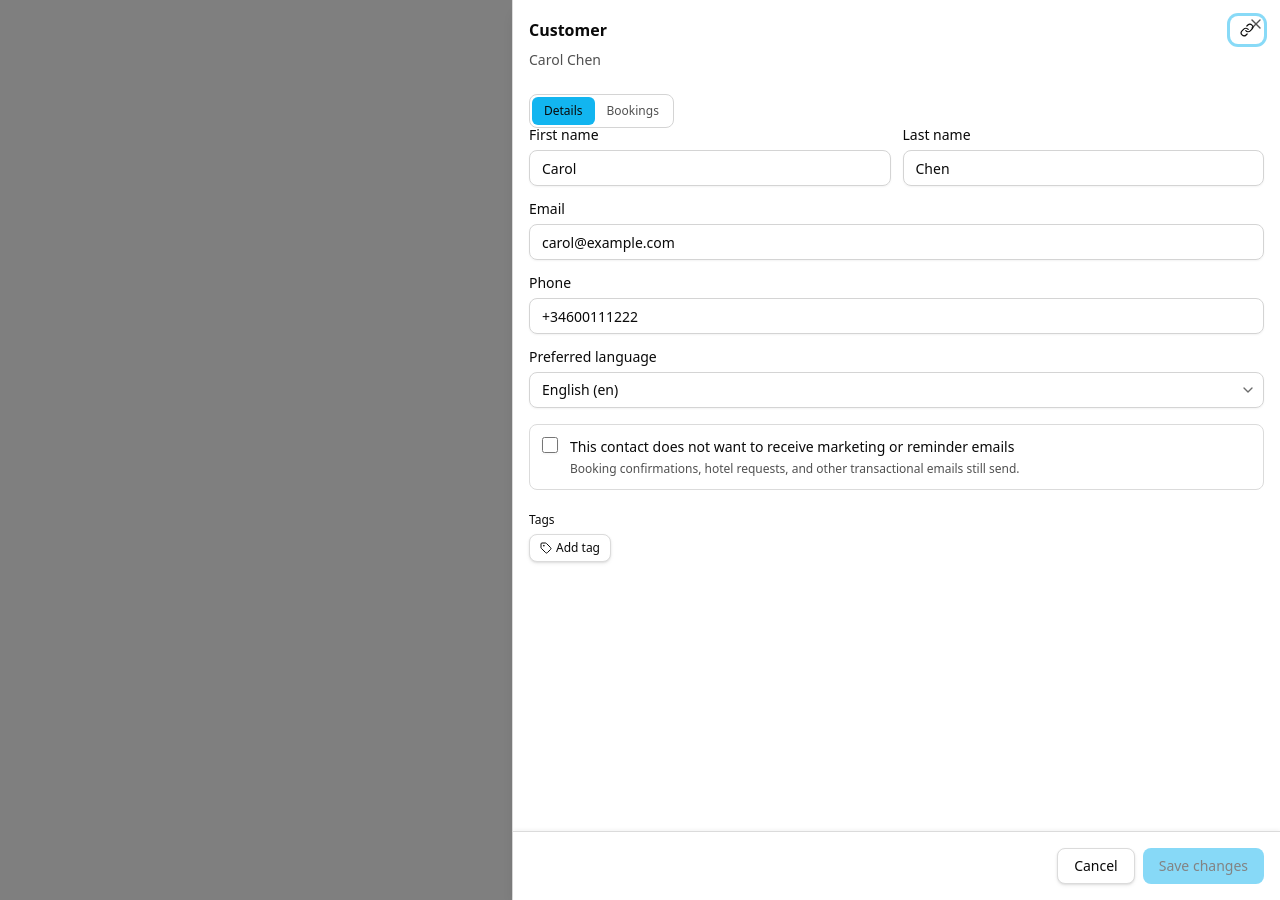
Scenario: CustomerDetailSheet › blocks Save and shows a field error for an invalid email
The width and height of the screenshot is (1280, 900).
Replace the text in the field labelled "Email" with "not-an-email": (896, 242) x1=529 y1=224 x2=1264 y2=260
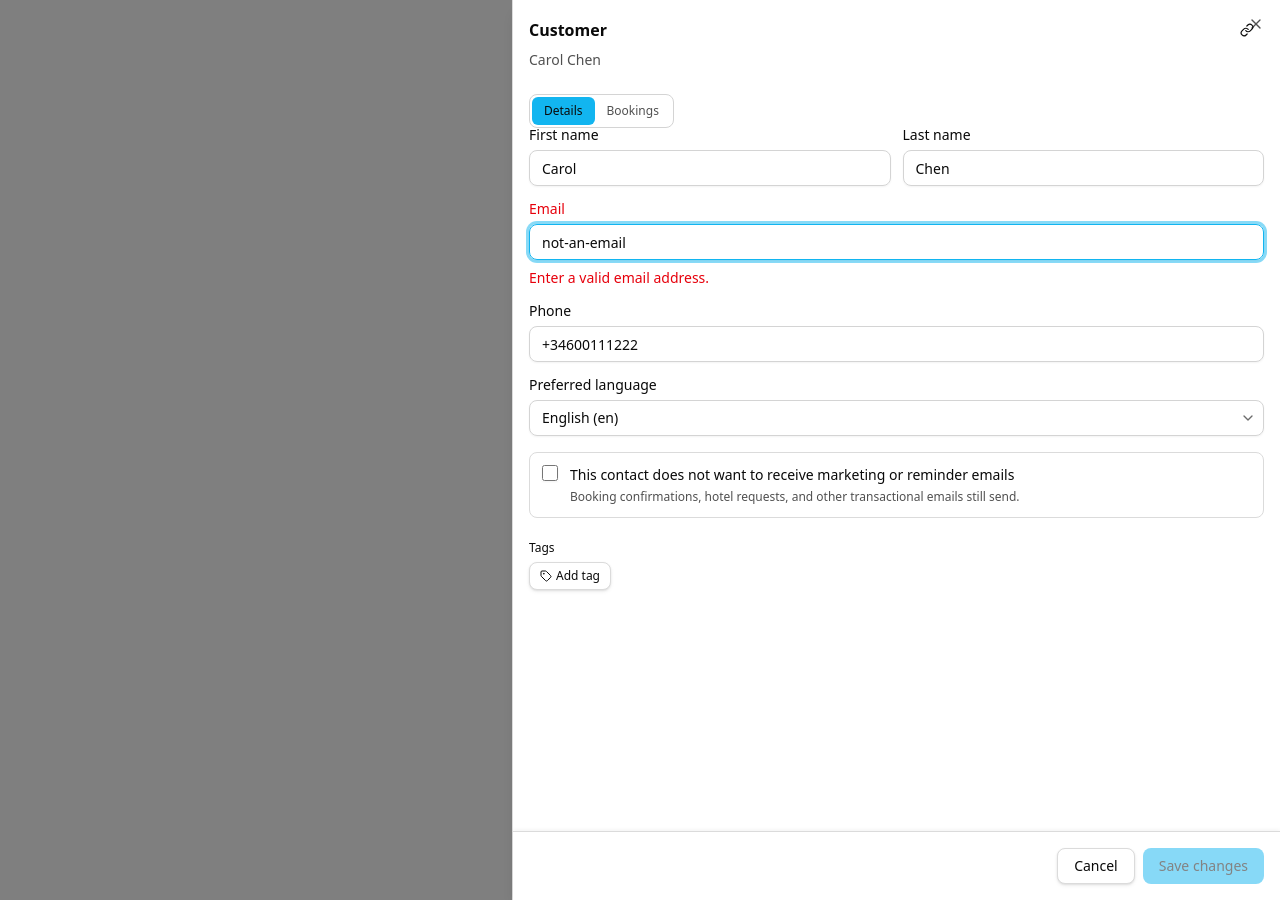
Expected: the button "Save changes" is disabled, x1=1143 y1=848 x2=1264 y2=884
Now the text "Enter a valid email address." is shown, box x1=529 y1=268 x2=709 y2=287
